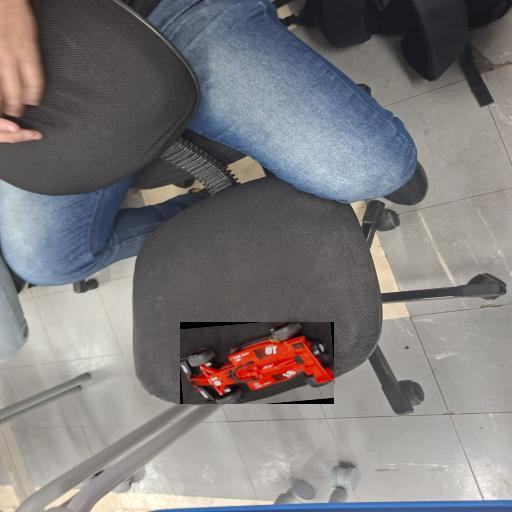carro: (180, 323, 333, 403)
